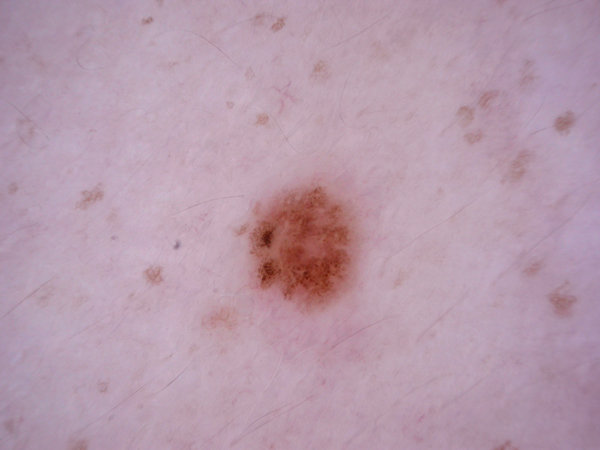Detected Lesion: (238, 171, 375, 310)
